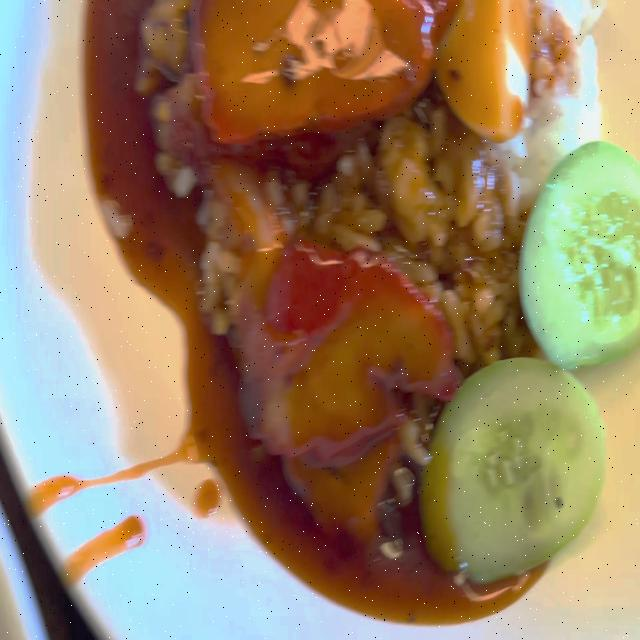boiled_egg: (432, 0, 534, 143)
cucumber: (419, 353, 606, 575), (521, 133, 640, 367)
red_pork: (231, 238, 431, 507), (168, 0, 430, 138)
red_pork_and_crispy_pork: (138, 0, 640, 586)
